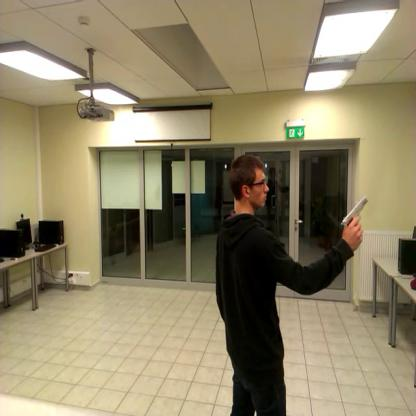Pistol: (342, 190, 380, 249)
